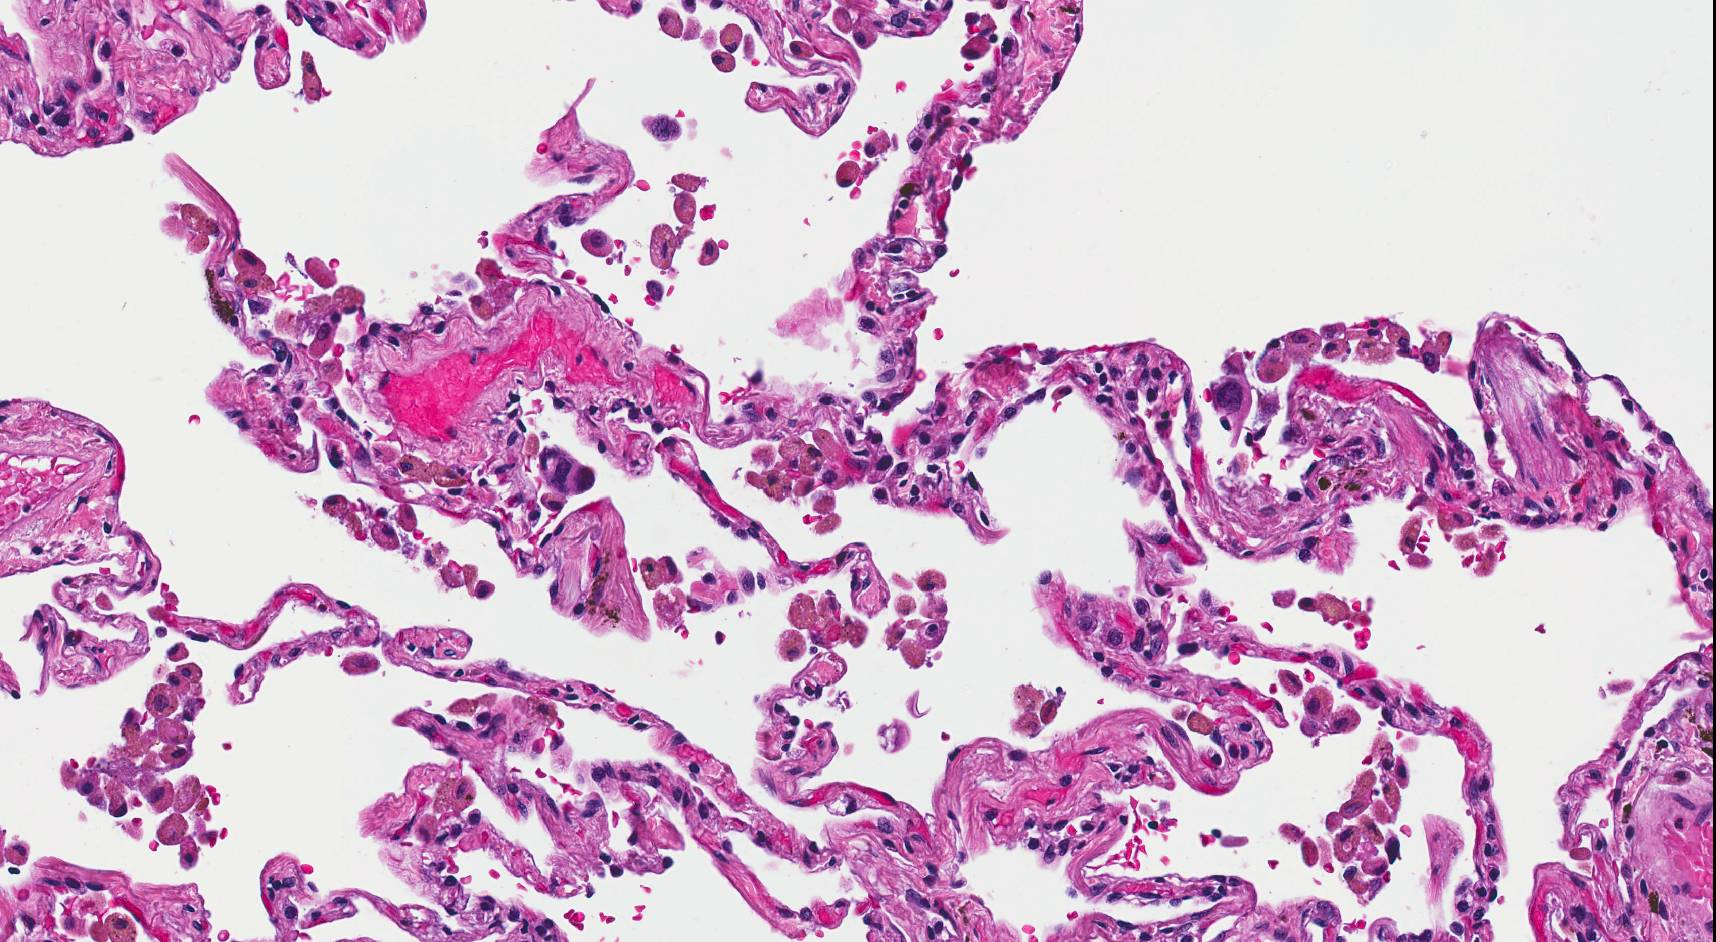stas: (535, 444, 596, 494)
